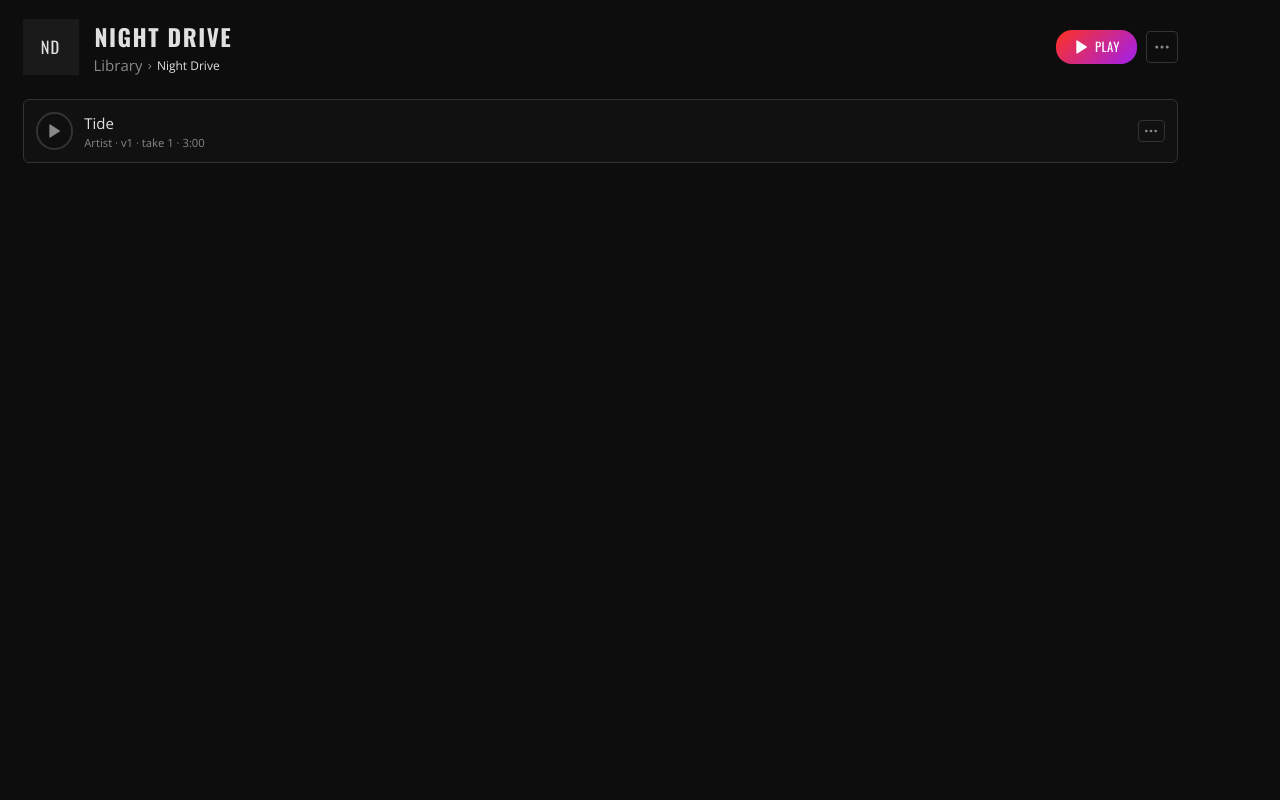
Scenario: PlaylistDetailView header › lists Share playlist, Save offline, Rename, and Delete playlist in the menu
This screenshot has width=1280, height=800.
Click the button named "More" at (1162, 46), box [1146, 30, 1178, 62]
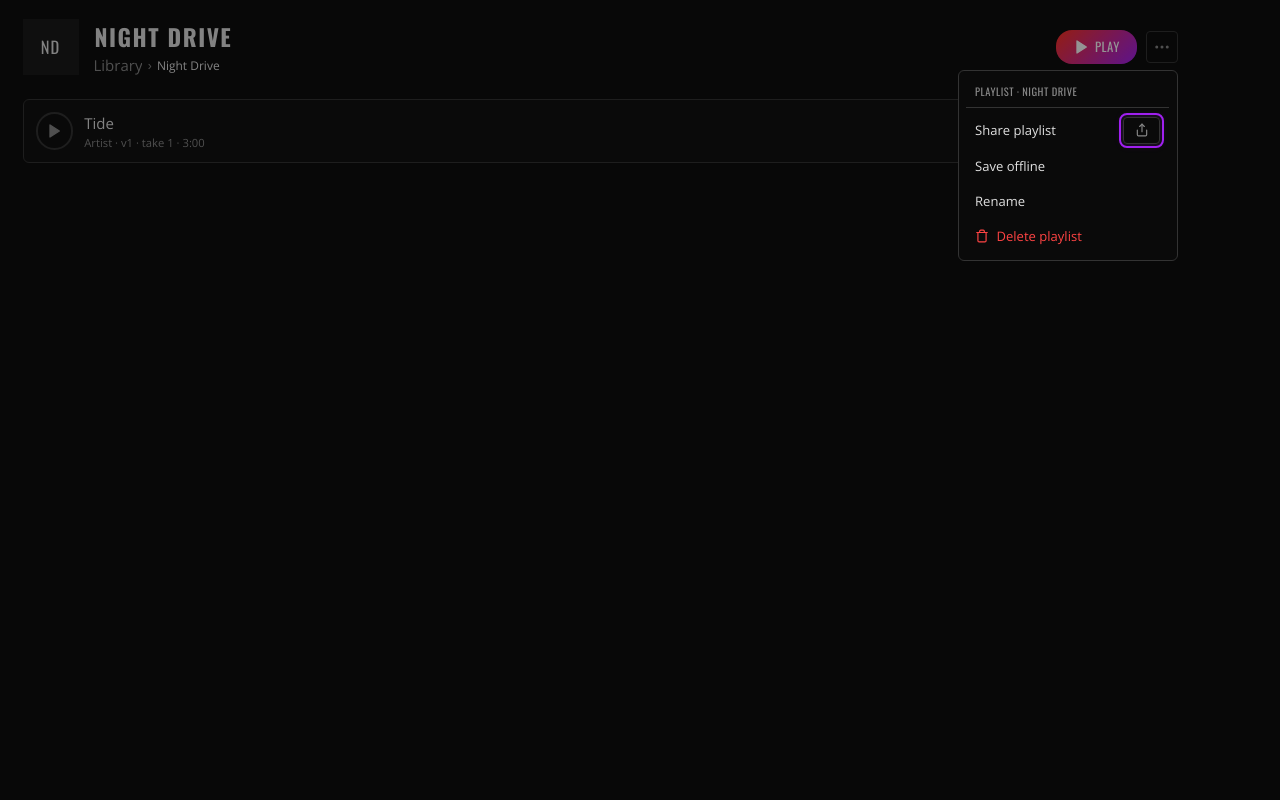
Now the text with class "menu-heading" reads "Playlist · Night Drive", box [975, 83, 1077, 99]
Now the text with class "menu-row-label" reads "Share playlist", box [975, 122, 1056, 140]
